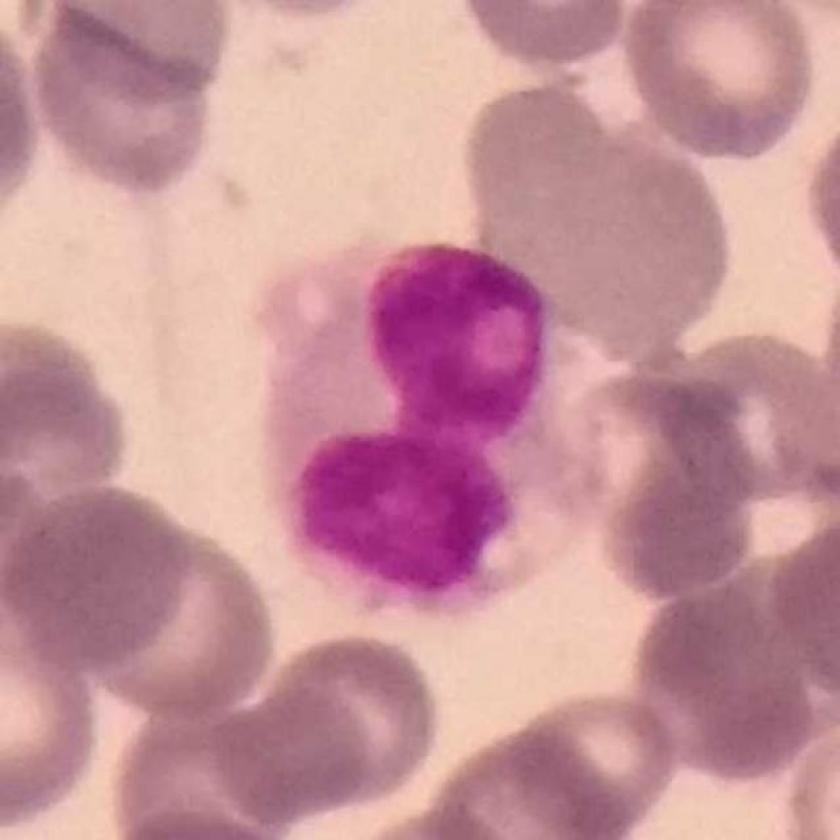monocyte: (252, 227, 615, 619)
